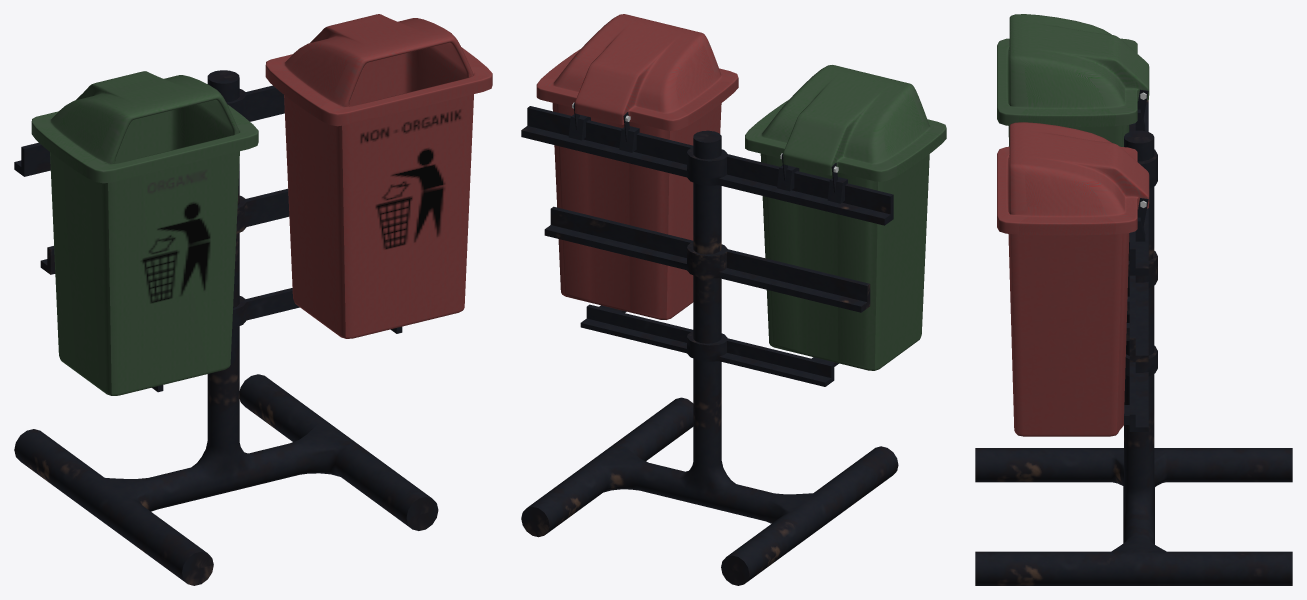
The model's file is Tong Sampah.obj.
3 views of the same model, side by side, from view 1: azimuth 30°, elevation 25°; view 2: azimuth 150°, elevation 25°; view 3: azimuth 270°, elevation 25° (orthographic). The views are drawn at different scales.
Parts seen in each view (by area): view 1: Tong_Sampah_Mesh.003; view 2: Tong_Sampah_Mesh.003; view 3: Tong_Sampah_Mesh.003.
Part boxes in pixels (left/top/right/bottom): Tong_Sampah_Mesh.003: left=14, top=14, right=492, bottom=585; Tong_Sampah_Mesh.003: left=521, top=14, right=946, bottom=585; Tong_Sampah_Mesh.003: left=975, top=14, right=1292, bottom=585.
Size of the model in its own units: 1.33 by 1.45 by 0.9435.
Materials: 1 (1 with a texture image).
